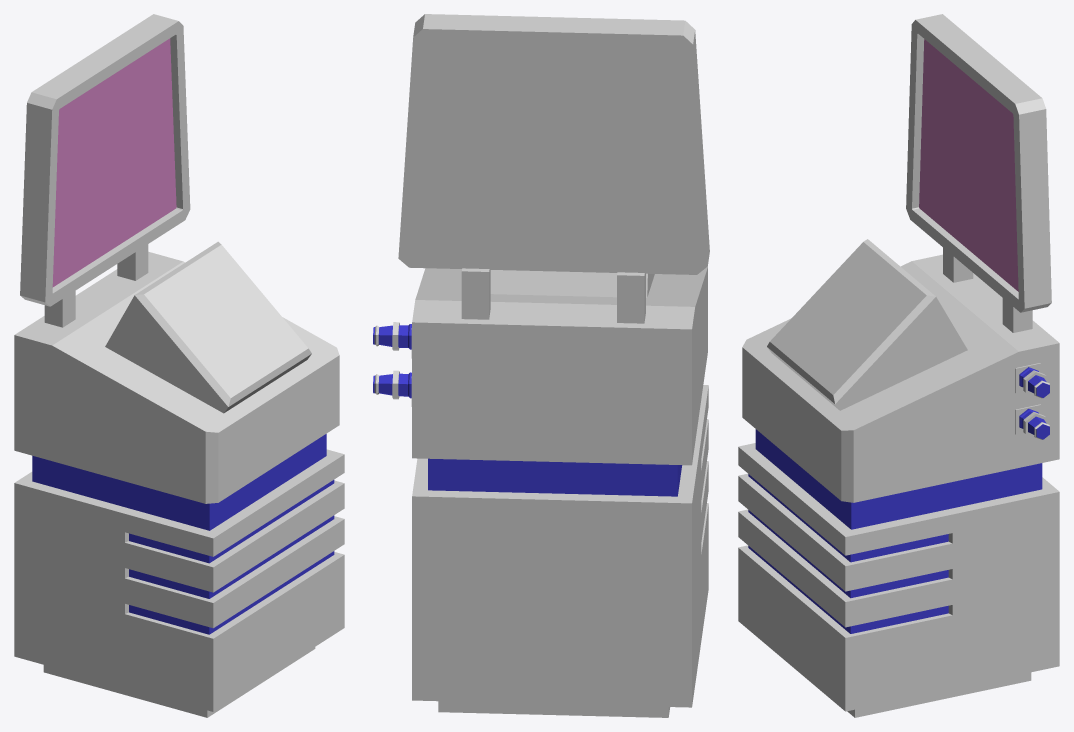
The model's file is breaker_numpad_button.fbx.
3 views of the same model, side by side, from view 1: azimuth 30°, elevation 25°; view 2: azimuth 150°, elevation 25°; view 3: azimuth 270°, elevation 25° (orthographic). The views are drawn at different scales.
Parts seen in each view (by area): view 1: numpad stand.001; view 2: numpad stand.001; view 3: numpad stand.001.
Part boxes in pixels (x1,y1,x2,y2): numpad stand.001: [14, 14, 344, 717]; numpad stand.001: [373, 14, 709, 717]; numpad stand.001: [738, 14, 1059, 717].
Size of the model in its own units: 145 by 287 by 143.
